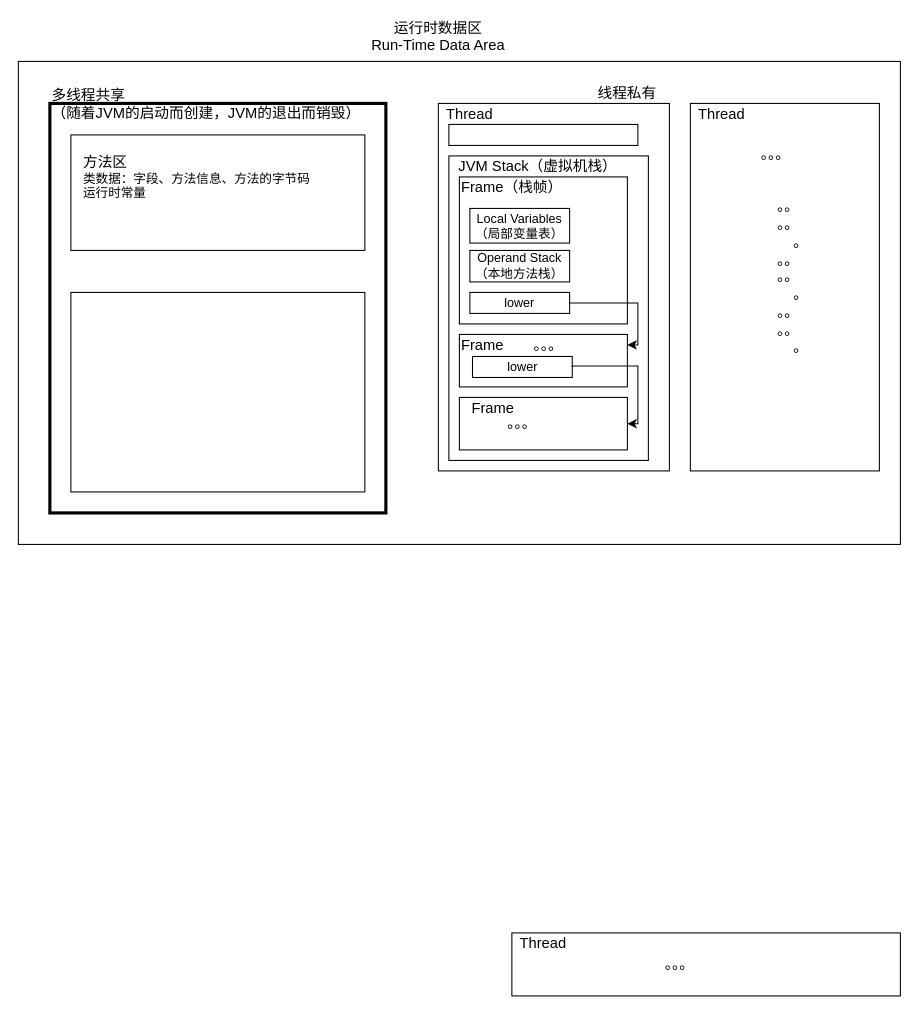
Image size: 919x1014. Some labels were removed from this diagram. Here are the shapes that lost their labels. From the top down, the box of each, then its label:
(448, 123, 638, 145): PC寄存器（Program Counter)
(70, 291, 365, 492): 堆区 类实例， 垃圾回收的就是这一片区域
